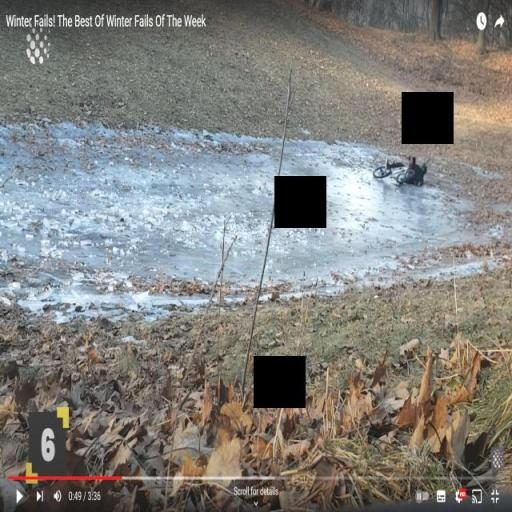Fall: (384, 151, 433, 189)
